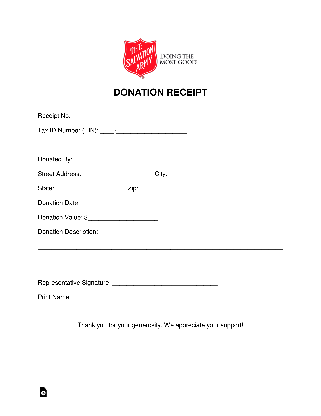textline: (36, 239, 286, 252), (34, 254, 286, 266), (98, 227, 285, 236), (111, 275, 218, 287), (71, 291, 146, 303), (168, 168, 241, 180), (55, 182, 128, 193), (87, 211, 159, 222), (79, 198, 154, 208), (116, 126, 188, 136), (73, 155, 145, 165), (82, 170, 153, 179), (138, 184, 177, 194), (71, 111, 109, 121), (99, 126, 113, 135)
